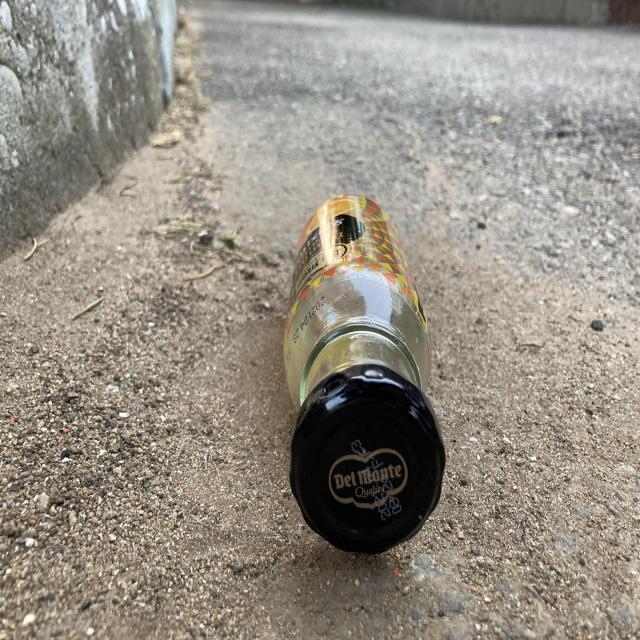glass: (284, 194, 445, 553)
